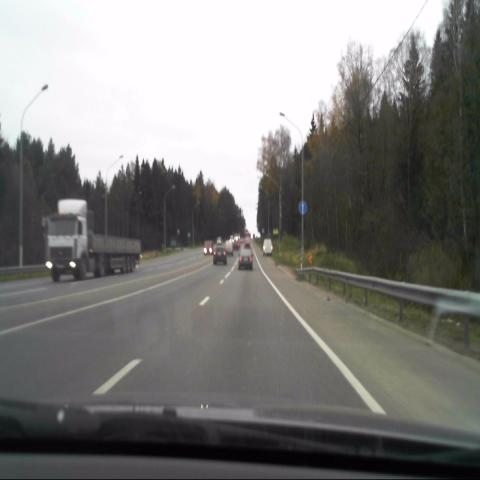4_1_1: (298, 200, 308, 216)
